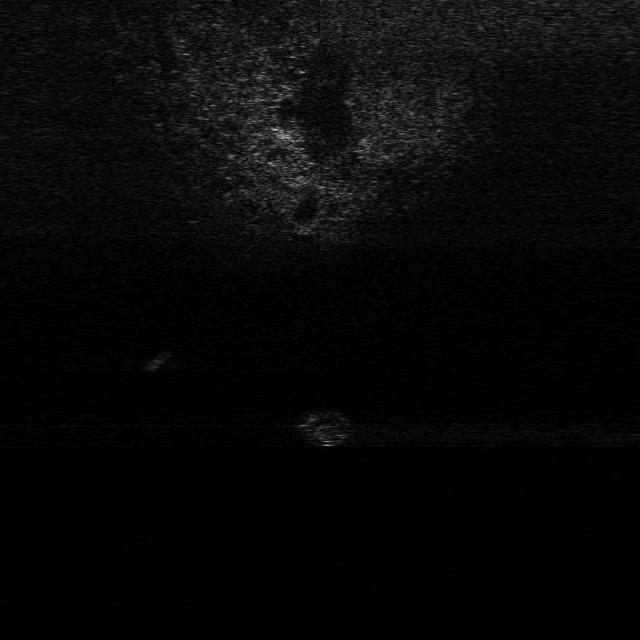circle cage: (288, 404, 354, 451)
cylinder: (142, 348, 172, 370)
